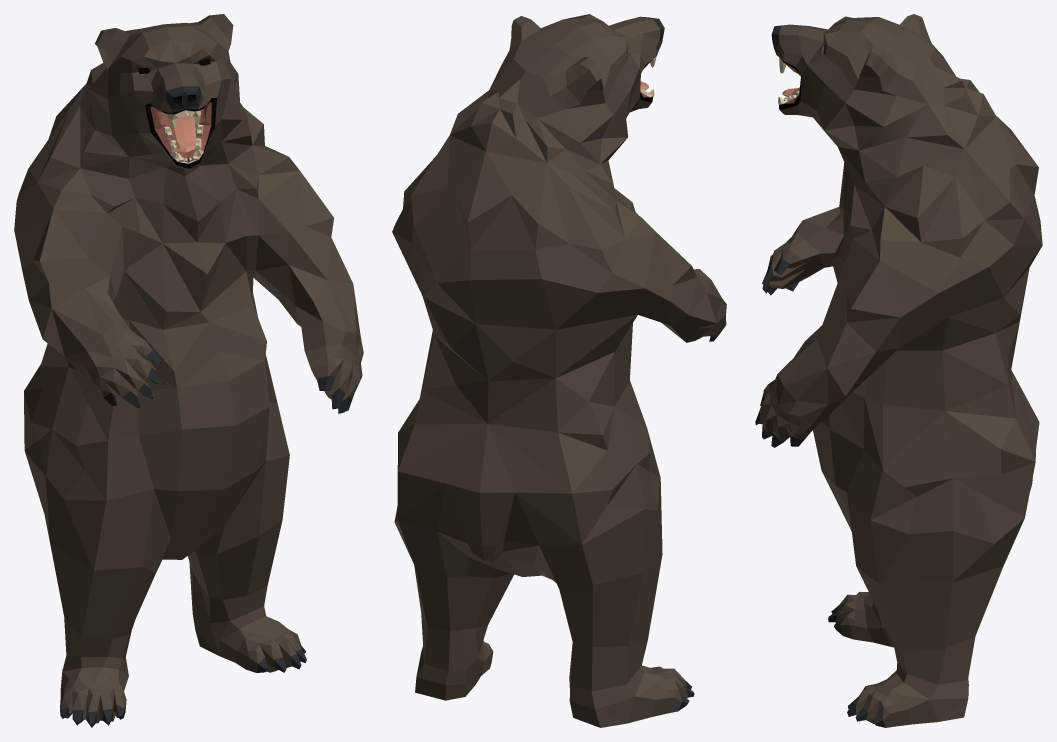
The model's file is Bear_Statue.fbx.
3 renders of one model, left to right at view 1: azimuth 30°, elevation 25°; view 2: azimuth 150°, elevation 25°; view 3: azimuth 270°, elevation 25°, orthographic. The views are drawn at different scales.
Parts seen in each view (by area): view 1: Bear_Statue; view 2: Bear_Statue; view 3: Bear_Statue.
Part boxes in pixels (<box>): Bear_Statue: <box>14,14,363,727</box>; Bear_Statue: <box>392,14,726,727</box>; Bear_Statue: <box>755,14,1042,727</box>.
Bounding box in the file's own units: 145 × 310 × 126.
Materials: 1 (1 with a texture image).
